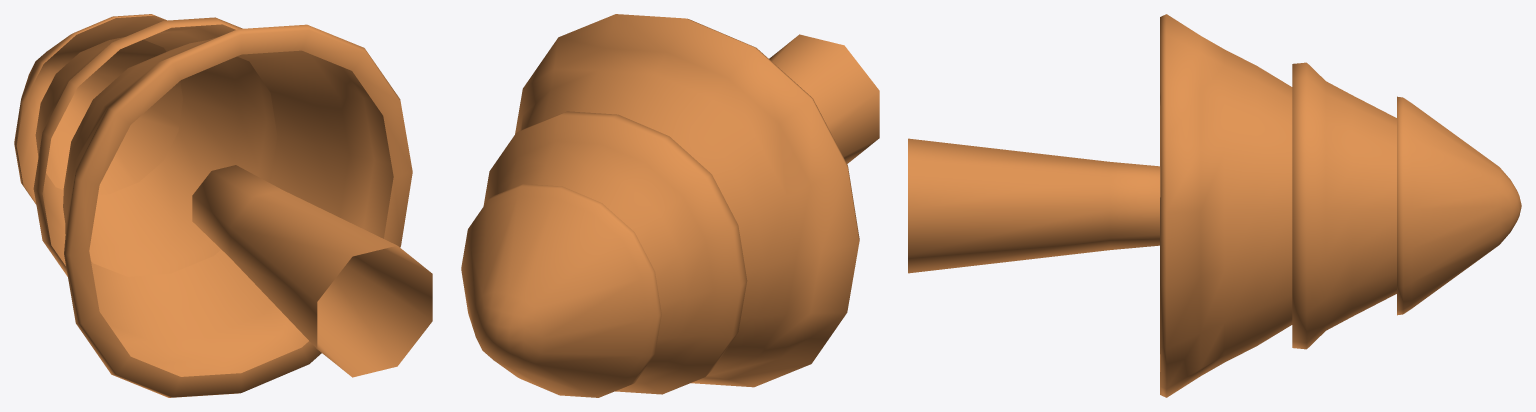
Rendered from tree.fbx.
The picture shows the model from 3 angles, left to right: view 1: azimuth 30°, elevation 25°; view 2: azimuth 150°, elevation 25°; view 3: azimuth 270°, elevation 25°; orthographic projection. The views are drawn at different scales.
Parts seen in each view (by area): view 1: tree.001; view 2: tree.001; view 3: tree.001.
Boxes of the visible parts, x1,y1,x2,y2 form: tree.001: (14,14,432,397); tree.001: (461,14,879,397); tree.001: (908,14,1521,397).
Bounding box in the file's own units: 84.3 × 84.3 × 136.
